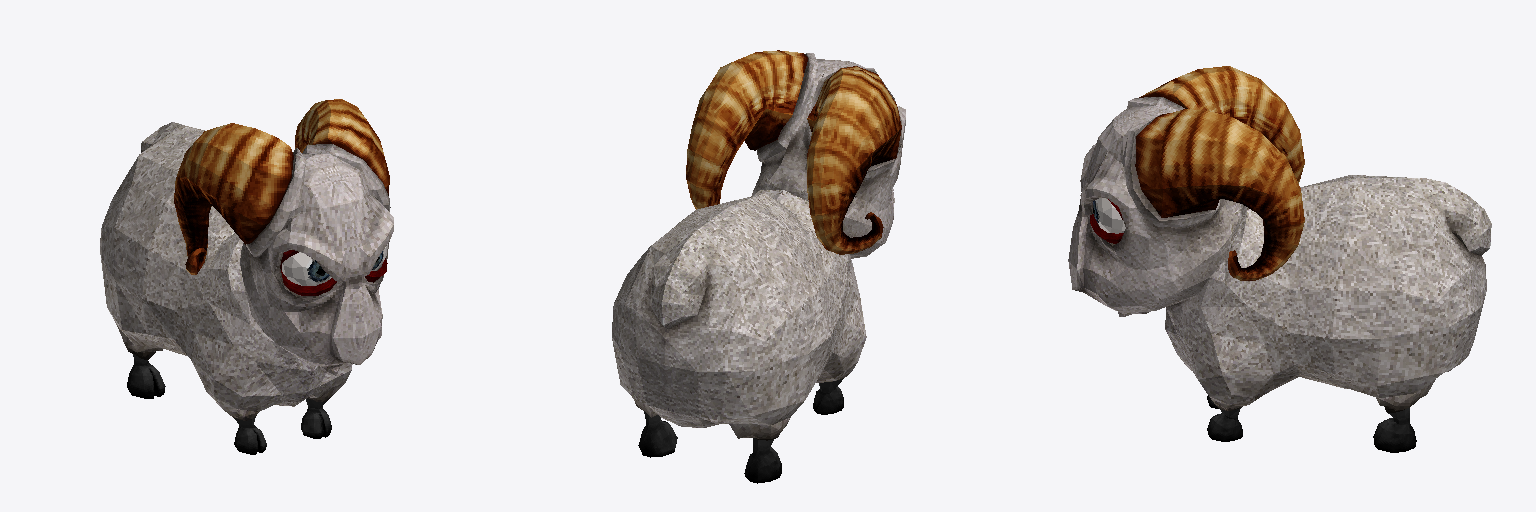
3 renders of one model, left to right at view 1: azimuth 30°, elevation 25°; view 2: azimuth 150°, elevation 25°; view 3: azimuth 270°, elevation 25°, orthographic.
Visible parts, largest first — view 1: ram:Mesh group; view 2: ram:Mesh group; view 3: ram:Mesh group.
Part boxes in pixels (x1,y1,x2,y2): ram:Mesh group: (100,99,393,454); ram:Mesh group: (612,50,905,483); ram:Mesh group: (1068,66,1491,452).
Bounding box in the file's own units: 5.69 × 9.73 × 11.37.
1 materials, 1 textured.